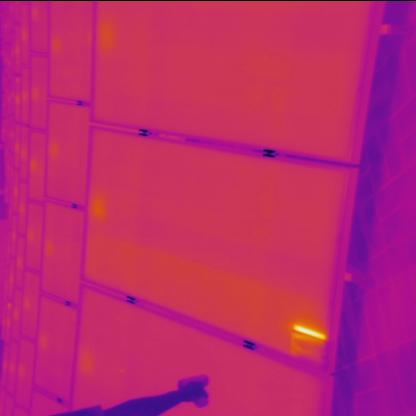hotspot: (288, 316, 328, 364)
